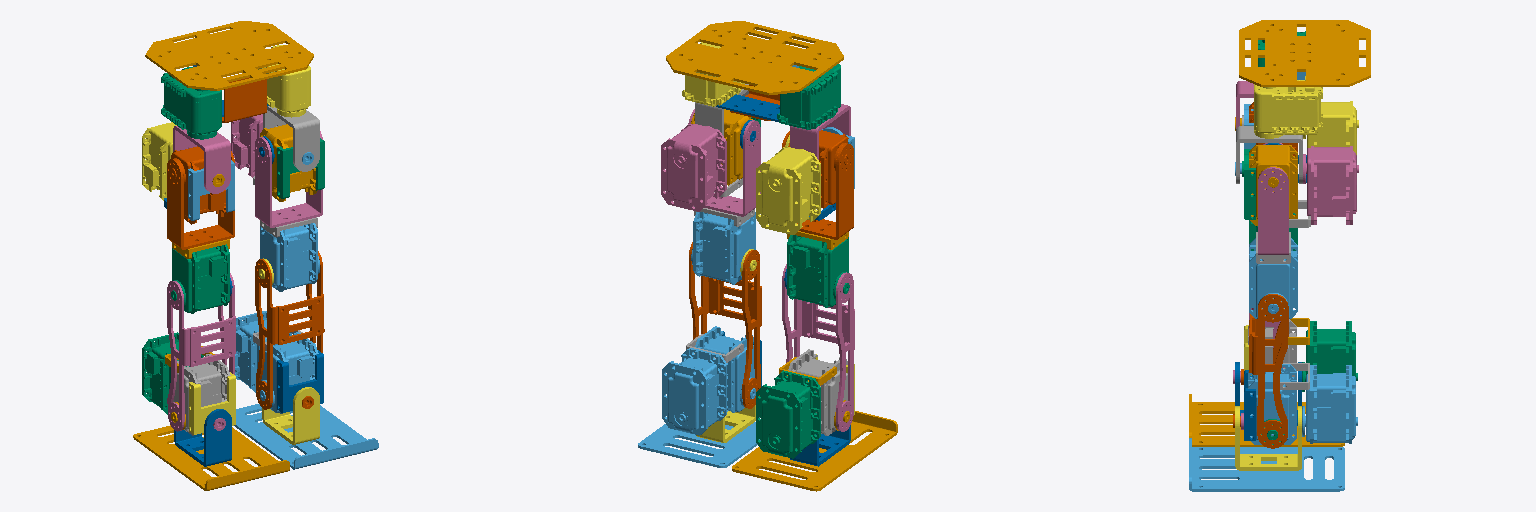
--- Facts derived from the render (not from the file) ---
3 views of the same robot in one strip: view 1: azimuth 30°, elevation 25°; view 2: azimuth 150°, elevation 25°; view 3: azimuth 270°, elevation 25° (orthographic).
Model Biped_upscaled with 50 links and 49 joints (12 continuous, 37 fixed), rooted at base_link, posed every joint at zero.
Visible links, largest first — view 1: base_link, Foot_L1, Knee_Foot_bracket_R1, Knee_Foot_Bracket_L1, Foot_R1, Knee_servo_Pitch_L1, Knee_servo_Pitch_R1, Hip_servo_Yaw_L1, Hip_Knee_bracket_L1, Hip_Knee_Backet_R1, foot_connect_L1, foot_connect_R1 (+16 smaller); view 2: base_link, Hip_servo_roll_R1, Hip_servo_roll_L1, foot_Servo_roll_R1, foot_servo_roll_L1, Foot_L1, Knee_Foot_Bracket_L1, Knee_Foot_bracket_R1, Knee_servo_Pitch_L1, Knee_servo_Pitch_R1, Foot_R1, Hip_servo_Yaw_L1 (+12 smaller); view 3: base_link, Foot_R1, Hip_servo_roll_R1, foot_Servo_roll_R1, Knee_Foot_bracket_R1, Hip_servo_Yaw__R_1, Hip_Knee_Backet_R1, Foot_L1, Knee_servo_Pitch_R1, foot_servo_roll_L1, Hip_servo_Pitch_R1, Hip_servo_roll_L1 (+6 smaller).
Link boxes in pixels (x1=…): base_link: x1=145, y1=21, x2=313, y2=90; Foot_L1: x1=133, y1=425, x2=289, y2=490; Knee_Foot_bracket_R1: x1=255, y1=251, x2=324, y2=409; Knee_Foot_Bracket_L1: x1=167, y1=273, x2=235, y2=431; Foot_R1: x1=234, y1=404, x2=378, y2=469; Knee_servo_Pitch_L1: x1=171, y1=244, x2=229, y2=313; Knee_servo_Pitch_R1: x1=260, y1=223, x2=319, y2=291; Hip_servo_Yaw_L1: x1=161, y1=67, x2=221, y2=139; Hip_Knee_bracket_L1: x1=167, y1=151, x2=234, y2=249; Hip_Knee_Backet_R1: x1=255, y1=131, x2=322, y2=227; foot_connect_L1: x1=174, y1=409, x2=231, y2=466; foot_connect_R1: x1=262, y1=387, x2=319, y2=444; base_link: x1=666, y1=21, x2=843, y2=95; Hip_servo_roll_R1: x1=661, y1=124, x2=726, y2=211; Hip_servo_roll_L1: x1=756, y1=147, x2=820, y2=234; foot_Servo_roll_R1: x1=662, y1=348, x2=726, y2=435; foot_servo_roll_L1: x1=756, y1=370, x2=820, y2=458; Foot_L1: x1=732, y1=411, x2=897, y2=491; Knee_Foot_Bracket_L1: x1=782, y1=264, x2=854, y2=431; Knee_Foot_bracket_R1: x1=689, y1=242, x2=761, y2=408; Knee_servo_Pitch_L1: x1=787, y1=235, x2=849, y2=307; Knee_servo_Pitch_R1: x1=691, y1=212, x2=755, y2=284; Foot_R1: x1=638, y1=410, x2=760, y2=467; Hip_servo_Yaw_L1: x1=777, y1=64, x2=840, y2=129; base_link: x1=1239, y1=20, x2=1370, y2=86; Foot_R1: x1=1189, y1=438, x2=1344, y2=491; Hip_servo_roll_R1: x1=1303, y1=146, x2=1358, y2=224; foot_Servo_roll_R1: x1=1302, y1=365, x2=1357, y2=443; Knee_Foot_bracket_R1: x1=1249, y1=294, x2=1288, y2=448; Hip_servo_Yaw__R_1: x1=1254, y1=76, x2=1322, y2=138; Hip_Knee_Backet_R1: x1=1258, y1=143, x2=1288, y2=254; Foot_L1: x1=1189, y1=394, x2=1344, y2=446; Knee_servo_Pitch_R1: x1=1249, y1=238, x2=1297, y2=318; foot_servo_roll_L1: x1=1302, y1=321, x2=1357, y2=391; Hip_servo_Pitch_R1: x1=1249, y1=145, x2=1297, y2=225; Hip_servo_roll_L1: x1=1303, y1=101, x2=1358, y2=154.
Bounding box of the posed robot: 1.48 × 1.31 × 3.11 m (x, y, z).
50 mesh visuals loaded from 50 distinct referenced files (50 binary STL).

robot.urdf — Biped_upscaled:
<?xml version="1.0" ?>
<robot name="Biped_upscaled">

<material name="silver">
  <color rgba="0.700 0.700 0.700 1.000"/>
</material>

<link name="base_link">
  <inertial>
    <origin xyz="0.06060872462491695 0.036723589973975845 0.30999861161402337" rpy="0 0 0"/>
    <mass value="0.02188916916153513"/>
    <inertia ixx="1.4745375687328505e-05" iyy="2.054443019497247e-05" izz="3.527521310286041e-05" ixy="-9.684751620381694e-09" iyz="-2.168404344971009e-19" ixz="1.0842021724855044e-19"/>
  </inertial>
  <visual>
    <origin xyz="0 0 0" rpy="0 0 0"/>
    <geometry>
      <mesh filename="meshes/base_link.stl" scale="0.01 0.01 0.01"/>
    </geometry>
    <material name="silver"/>
    <material/>
  </visual>
  <collision>
    <origin xyz="0 0 0" rpy="0 0 0"/>
    <geometry>
      <mesh filename="meshes/base_link.stl" scale="0.01 0.01 0.01"/>
    </geometry>
  </collision>
</link>

<link name="connect_link_v11">
  <inertial>
    <origin xyz="8.755939062687901e-08 -0.005999506282332957 -0.0032503883859776317" rpy="0 0 0"/>
    <mass value="0.00969209120805048"/>
    <inertia ixx="4.4427801889897027e-07" iyy="2.5957966162830142e-06" izz="2.9718261595912686e-06" ixy="5.759824041329242e-20" iyz="-2.710505431213761e-20" ixz="0.0"/>
  </inertial>
  <visual>
    <origin xyz="-0.060628 -0.038873 -0.308999" rpy="0 0 0"/>
    <geometry>
      <mesh filename="meshes/connect_link_v11.stl" scale="0.01 0.01 0.01"/>
    </geometry>
    <material name="silver"/>
    <material/>
  </visual>
  <collision>
    <origin xyz="-0.060628 -0.038873 -0.308999" rpy="0 0 0"/>
    <geometry>
      <mesh filename="meshes/connect_link_v11.stl" scale="0.01 0.01 0.01"/>
    </geometry>
  </collision>
</link>

<link name="Hip_servo_Yaw_L1">
  <inertial>
    <origin xyz="-0.013531113018413154 -0.00969047444291548 -0.01700249284622163" rpy="0 0 0"/>
    <mass value="0.056156082900612025"/>
    <inertia ixx="1.6178335463269515e-05" iyy="8.950870395210524e-06" izz="1.3635436612402693e-05" ixy="1.4223614970348356e-08" iyz="-1.1036335249283921e-07" ixz="-1.9200076826824883e-09"/>
  </inertial>
  <visual>
    <origin xyz="-0.035628 -0.032873 -0.302499" rpy="0 0 0"/>
    <geometry>
      <mesh filename="meshes/Hip_servo_Yaw_L1.stl" scale="0.01 0.01 0.01"/>
    </geometry>
    <material name="silver"/>
    <material/>
  </visual>
  <collision>
    <origin xyz="-0.035628 -0.032873 -0.302499" rpy="0 0 0"/>
    <geometry>
      <mesh filename="meshes/Hip_servo_Yaw_L1.stl" scale="0.01 0.01 0.01"/>
    </geometry>
  </collision>
</link>

<link name="Hip_servo_Yaw__R_1">
  <inertial>
    <origin xyz="0.013468886981585007 -0.00969047444291786 -0.016802492846221484" rpy="0 0 0"/>
    <mass value="0.056156082900612025"/>
    <inertia ixx="1.617833546327125e-05" iyy="8.950870395210524e-06" izz="1.3635436612402605e-05" ixy="1.4223614970267041e-08" iyz="-1.1036335249289342e-07" ixz="-1.920007683007749e-09"/>
  </inertial>
  <visual>
    <origin xyz="-0.085628 -0.032873 -0.302499" rpy="0 0 0"/>
    <geometry>
      <mesh filename="meshes/Hip_servo_Yaw__R_1.stl" scale="0.01 0.01 0.01"/>
    </geometry>
    <material name="silver"/>
    <material/>
  </visual>
  <collision>
    <origin xyz="-0.085628 -0.032873 -0.302499" rpy="0 0 0"/>
    <geometry>
      <mesh filename="meshes/Hip_servo_Yaw__R_1.stl" scale="0.01 0.01 0.01"/>
    </geometry>
  </collision>
</link>

<link name="connect_link_21">
  <inertial>
    <origin xyz="0.025000087559390392 4.93717667540694e-07 -0.0007503883859772409" rpy="0 0 0"/>
    <mass value="0.0022366364326270346"/>
    <inertia ixx="9.507024189355125e-08" iyy="5.915745335974634e-07" izz="6.858060368287546e-07" ixy="1.4399560103323106e-20" iyz="3.3881317890172014e-21" ixz="6.776263578034403e-21"/>
  </inertial>
  <visual>
    <origin xyz="-0.035628 -0.032873 -0.270499" rpy="0 0 0"/>
    <geometry>
      <mesh filename="meshes/connect_link_21.stl" scale="0.01 0.01 0.01"/>
    </geometry>
    <material name="silver"/>
    <material/>
  </visual>
  <collision>
    <origin xyz="-0.035628 -0.032873 -0.270499" rpy="0 0 0"/>
    <geometry>
      <mesh filename="meshes/connect_link_21.stl" scale="0.01 0.01 0.01"/>
    </geometry>
  </collision>
</link>

<link name="support_link1">
  <inertial>
    <origin xyz="8.755938650517603e-08 -0.01899092222380293 0.008312349694208576" rpy="0 0 0"/>
    <mass value="0.004271598629814522"/>
    <inertia ixx="9.380132827919367e-07" iyy="9.819874908971005e-07" izz="8.644459883259723e-07" ixy="-2.82061971435682e-19" iyz="2.809956492261554e-07" ixz="1.4907779871675686e-19"/>
  </inertial>
  <visual>
    <origin xyz="-0.060628 -0.038873 -0.268999" rpy="0 0 0"/>
    <geometry>
      <mesh filename="meshes/support_link1.stl" scale="0.01 0.01 0.01"/>
    </geometry>
    <material name="silver"/>
    <material/>
  </visual>
  <collision>
    <origin xyz="-0.060628 -0.038873 -0.268999" rpy="0 0 0"/>
    <geometry>
      <mesh filename="meshes/support_link1.stl" scale="0.01 0.01 0.01"/>
    </geometry>
  </collision>
</link>

<link name="Hip_bracket_yaw_L_v11">
  <inertial>
    <origin xyz="8.755937528151514e-08 -0.00019455926519733498 -0.012368152810058874" rpy="0 0 0"/>
    <mass value="0.008735700587823858"/>
    <inertia ixx="4.557715173367227e-06" iyy="1.596604357873184e-06" izz="3.6811077103368883e-06" ixy="-8.343274530454858e-20" iyz="-2.8340072973809954e-08" ixz="-3.503328269843786e-18"/>
  </inertial>
  <visual>
    <origin xyz="-0.022128 -0.010373 -0.265499" rpy="0 0 0"/>
    <geometry>
      <mesh filename="meshes/Hip_bracket_yaw_L_v11.stl" scale="0.01 0.01 0.01"/>
    </geometry>
    <material name="silver"/>
    <material/>
  </visual>
  <collision>
    <origin xyz="-0.022128 -0.010373 -0.265499" rpy="0 0 0"/>
    <geometry>
      <mesh filename="meshes/Hip_bracket_yaw_L_v11.stl" scale="0.01 0.01 0.01"/>
    </geometry>
  </collision>
</link>

<link name="Hip_Bracket_yaw_R1">
  <inertial>
    <origin xyz="8.755937279392167e-08 -0.0001945592651994444 -0.012368152810057986" rpy="0 0 0"/>
    <mass value="0.008735700587823858"/>
    <inertia ixx="4.557715173370263e-06" iyy="1.5966043578800144e-06" izz="3.681107710333268e-06" ixy="-7.115076756936123e-20" iyz="-2.8340072973769297e-08" ixz="-3.415236843329339e-18"/>
  </inertial>
  <visual>
    <origin xyz="-0.099128 -0.010373 -0.265699" rpy="0 0 0"/>
    <geometry>
      <mesh filename="meshes/Hip_Bracket_yaw_R1.stl" scale="0.01 0.01 0.01"/>
    </geometry>
    <material name="silver"/>
    <material/>
  </visual>
  <collision>
    <origin xyz="-0.099128 -0.010373 -0.265699" rpy="0 0 0"/>
    <geometry>
      <mesh filename="meshes/Hip_Bracket_yaw_R1.stl" scale="0.01 0.01 0.01"/>
    </geometry>
  </collision>
</link>

<link name="Bush_2_1">
  <inertial>
    <origin xyz="0.022128087559382902 0.21457600178506725 -0.04262638838534463" rpy="0 0 0"/>
    <mass value="0.00033912761870964644"/>
    <inertia ixx="3.5534106983028924e-09" iyy="4.084788845227892e-09" izz="3.553410474846204e-09" ixy="-2.6469779601696886e-23" iyz="-1.4336032632279033e-19" ixz="2.117582368135751e-22"/>
  </inertial>
  <visual>
    <origin xyz="0.0 0.226125 -0.279125" rpy="0 0 0"/>
    <geometry>
      <mesh filename="meshes/Bush_2_1.stl" scale="0.01 0.01 0.01"/>
    </geometry>
    <material name="silver"/>
    <material/>
  </visual>
  <collision>
    <origin xyz="0.0 0.226125 -0.279125" rpy="0 0 0"/>
    <geometry>
      <mesh filename="meshes/Bush_2_1.stl" scale="0.01 0.01 0.01"/>
    </geometry>
  </collision>
</link>

<link name="Bush_1_v11">
  <inertial>
    <origin xyz="-0.07712791244061934 -0.2586209982149346 -0.04262638838534433" rpy="0 0 0"/>
    <mass value="0.00033912761870964644"/>
    <inertia ixx="3.5534106983028924e-09" iyy="4.084788845234668e-09" izz="3.553410474846707e-09" ixy="5.293955920339377e-23" iyz="-1.4336032632279033e-19" ixz="0.0"/>
  </inertial>
  <visual>
    <origin xyz="-0.176256 -0.247072 -0.279325" rpy="0 0 0"/>
    <geometry>
      <mesh filename="meshes/Bush_1_v11.stl" scale="0.01 0.01 0.01"/>
    </geometry>
    <material name="silver"/>
    <material/>
  </visual>
  <collision>
    <origin xyz="-0.176256 -0.247072 -0.279325" rpy="0 0 0"/>
    <geometry>
      <mesh filename="meshes/Bush_1_v11.stl" scale="0.01 0.01 0.01"/>
    </geometry>
  </collision>
</link>

<link name="Washer_11">
  <inertial>
    <origin xyz="-0.09912791244096347 -0.008551506282331372 0.2366986116140234" rpy="0 0 0"/>
    <mass value="0.0001569470040624276"/>
    <inertia ixx="2.095397917133054e-09" iyy="4.096365919137407e-09" izz="2.095397782786852e-09" ixy="2.6469779601696886e-23" iyz="0.0" ixz="4.235164736271502e-22"/>
  </inertial>
  <visual>
    <origin xyz="-0.198256 -0.0 -0.0" rpy="0 0 0"/>
    <geometry>
      <mesh filename="meshes/Washer_11.stl" scale="0.01 0.01 0.01"/>
    </geometry>
    <material name="silver"/>
    <material/>
  </visual>
  <collision>
    <origin xyz="-0.198256 -0.0 -0.0" rpy="0 0 0"/>
    <geometry>
      <mesh filename="meshes/Washer_11.stl" scale="0.01 0.01 0.01"/>
    </geometry>
  </collision>
</link>

<link name="Hip_servo_roll_L1">
  <inertial>
    <origin xyz="0.02212792246244539 0.28094966903192353 -0.005937424755607296" rpy="0 0 0"/>
    <mass value="0.05848616148988177"/>
    <inertia ixx="1.6766044291456443e-05" iyy="1.3912202333722732e-05" izz="1.0380681129501561e-05" ixy="-2.87094284597781e-10" iyz="4.782213604587627e-07" ixz="4.278207660097372e-10"/>
  </inertial>
  <visual>
    <origin xyz="0.0 0.226125 -0.231125" rpy="0 0 0"/>
    <geometry>
      <mesh filename="meshes/Hip_servo_roll_L1.stl" scale="0.01 0.01 0.01"/>
    </geometry>
    <material name="silver"/>
    <material/>
  </visual>
  <collision>
    <origin xyz="0.0 0.226125 -0.231125" rpy="0 0 0"/>
    <geometry>
      <mesh filename="meshes/Hip_servo_roll_L1.stl" scale="0.01 0.01 0.01"/>
    </geometry>
  </collision>
</link>

<link name="Support_roll_servo_L1">
  <inertial>
    <origin xyz="-0.008342818068121632 -0.007693332734379908 -8.605220785384837e-07" rpy="0 0 0"/>
    <mass value="0.001003390579055556"/>
    <inertia ixx="5.969253484000835e-08" iyy="1.9068402818395841e-07" izz="2.44845355143008e-07" ixy="-1.0691242380712038e-09" iyz="-8.557850778121313e-13" ixz="1.6064752087411026e-10"/>
  </inertial>
  <visual>
    <origin xyz="-0.030628 -0.040148 -0.200699" rpy="0 0 0"/>
    <geometry>
      <mesh filename="meshes/Support_roll_servo_L1.stl" scale="0.01 0.01 0.01"/>
    </geometry>
    <material name="silver"/>
    <material/>
  </visual>
  <collision>
    <origin xyz="-0.030628 -0.040148 -0.200699" rpy="0 0 0"/>
    <geometry>
      <mesh filename="meshes/Support_roll_servo_L1.stl" scale="0.01 0.01 0.01"/>
    </geometry>
  </collision>
</link>

<link name="Hip_servo_Pitch_L1">
  <inertial>
    <origin xyz="0.014675874563868638 -0.00849934833873182 0.02448944364464442" rpy="0 0 0"/>
    <mass value="0.05848616148988177"/>
    <inertia ixx="1.3912202333719696e-05" iyy="1.6766044291457744e-05" izz="1.038068112949967e-05" ixy="2.8709428237516654e-10" iyz="-4.278207647357996e-10" ixz="4.782213604587085e-07"/>
  </inertial>
  <visual>
    <origin xyz="-0.007126 -0.021598 -0.200711" rpy="0 0 0"/>
    <geometry>
      <mesh filename="meshes/Hip_servo_Pitch_L1.stl" scale="0.01 0.01 0.01"/>
    </geometry>
    <material name="silver"/>
    <material/>
  </visual>
  <collision>
    <origin xyz="-0.007126 -0.021598 -0.200711" rpy="0 0 0"/>
    <geometry>
      <mesh filename="meshes/Hip_servo_Pitch_L1.stl" scale="0.01 0.01 0.01"/>
    </geometry>
  </collision>
</link>

<link name="Hip_servo_roll_R1">
  <inertial>
    <origin xyz="-7.753755698614029e-08 0.02042667618526226 -0.011311424755605842" rpy="0 0 0"/>
    <mass value="0.05848616148988177"/>
    <inertia ixx="1.6766044291457744e-05" iyy="1.3912202333722732e-05" izz="1.0380681129502347e-05" ixy="-2.870942846519911e-10" iyz="4.782213604588711e-07" ixz="4.278207660097372e-10"/>
  </inertial>
  <visual>
    <origin xyz="-0.099128 -0.034373 -0.236699" rpy="0 0 0"/>
    <geometry>
      <mesh filename="meshes/Hip_servo_roll_R1.stl" scale="0.01 0.01 0.01"/>
    </geometry>
    <material name="silver"/>
    <material/>
  </visual>
  <collision>
    <origin xyz="-0.099128 -0.034373 -0.236699" rpy="0 0 0"/>
    <geometry>
      <mesh filename="meshes/Hip_servo_roll_R1.stl" scale="0.01 0.01 0.01"/>
    </geometry>
  </collision>
</link>

<link name="Support_roll_Servo_R1">
  <inertial>
    <origin xyz="-0.008482904734634547 -0.007763870604140438 -7.445276328510442e-07" rpy="0 0 0"/>
    <mass value="0.000991152631600229"/>
    <inertia ixx="5.899142983411561e-08" iyy="1.8810254074607535e-07" izz="2.4162816800247254e-07" ixy="-6.052279683857172e-11" iyz="-1.6902670593133494e-12" ixz="1.5851502979013143e-10"/>
  </inertial>
  <visual>
    <origin xyz="-0.107628 -0.040123 -0.200899" rpy="0 0 0"/>
    <geometry>
      <mesh filename="meshes/Support_roll_Servo_R1.stl" scale="0.01 0.01 0.01"/>
    </geometry>
    <material name="silver"/>
    <material/>
  </visual>
  <collision>
    <origin xyz="-0.107628 -0.040123 -0.200899" rpy="0 0 0"/>
    <geometry>
      <mesh filename="meshes/Support_roll_Servo_R1.stl" scale="0.01 0.01 0.01"/>
    </geometry>
  </collision>
</link>

<link name="Hip_servo_Pitch_R1">
  <inertial>
    <origin xyz="-0.014676502879000491 -0.008499671379272359 0.024488710964318067" rpy="0 0 0"/>
    <mass value="0.05848616148988177"/>
    <inertia ixx="1.3912202333717094e-05" iyy="1.6766044291459913e-05" izz="1.0380681129500396e-05" ixy="2.8709428341871113e-10" iyz="4.2782076619947255e-10" ixz="-4.782213604574617e-07"/>
  </inertial>
  <visual>
    <origin xyz="-0.114126 -0.021593 -0.200886" rpy="0 0 0"/>
    <geometry>
      <mesh filename="meshes/Hip_servo_Pitch_R1.stl" scale="0.01 0.01 0.01"/>
    </geometry>
    <material name="silver"/>
    <material/>
  </visual>
  <collision>
    <origin xyz="-0.114126 -0.021593 -0.200886" rpy="0 0 0"/>
    <geometry>
      <mesh filename="meshes/Hip_servo_Pitch_R1.stl" scale="0.01 0.01 0.01"/>
    </geometry>
  </collision>
</link>

<link name="side_attach_L_hip1">
  <inertial>
    <origin xyz="0.014999692096273623 -0.0030449648531452583 -0.0129790855107213" rpy="0 0 0"/>
    <mass value="0.0051821405505521004"/>
    <inertia ixx="6.678809461064129e-07" iyy="1.5448767594578657e-06" izz="9.305088933269494e-07" ixy="1.376428539288238e-20" iyz="2.639983998775246e-08" ixz="-4.0657581468206416e-20"/>
  </inertial>
  <visual>
    <origin xyz="-0.007126 0.001902 -0.241011" rpy="0 0 0"/>
    <geometry>
      <mesh filename="meshes/side_attach_L_hip1.stl" scale="0.01 0.01 0.01"/>
    </geometry>
    <material name="silver"/>
    <material/>
  </visual>
  <collision>
    <origin xyz="-0.007126 0.001902 -0.241011" rpy="0 0 0"/>
    <geometry>
      <mesh filename="meshes/side_attach_L_hip1.stl" scale="0.01 0.01 0.01"/>
    </geometry>
  </collision>
</link>

<link name="side_attach_R_hip1">
  <inertial>
    <origin xyz="0.014999679588596604 -0.0030449576998069347 -0.012979818191048487" rpy="0 0 0"/>
    <mass value="0.0051821405505521004"/>
    <inertia ixx="6.678809461064129e-07" iyy="1.5448767594578115e-06" izz="9.305088933269325e-07" ixy="4.1081097941833566e-20" iyz="2.6399839987756695e-08" ixz="-5.421010862427522e-20"/>
  </inertial>
  <visual>
    <origin xyz="-0.084126 0.001907 -0.241186" rpy="0 0 0"/>
    <geometry>
      <mesh filename="meshes/side_attach_R_hip1.stl" scale="0.01 0.01 0.01"/>
    </geometry>
    <material name="silver"/>
    <material/>
  </visual>
  <collision>
    <origin xyz="-0.084126 0.001907 -0.241186" rpy="0 0 0"/>
    <geometry>
      <mesh filename="meshes/side_attach_R_hip1.stl" scale="0.01 0.01 0.01"/>
    </geometry>
  </collision>
</link>

<link name="Horn_L_pitch1">
  <inertial>
    <origin xyz="0.0012521355878538712 4.865593969827914e-07 4.813353695898304e-07" rpy="0 0 0"/>
    <mass value="0.0010452069679460242"/>
    <inertia ixx="5.912619983875389e-08" iyy="3.074557111910957e-08" izz="3.074619929578471e-08" ixy="-1.0727354639620493e-17" iyz="-9.826429221097138e-18" ixz="2.9483977007094004e-13"/>
  </inertial>
  <visual>
    <origin xyz="-0.041376 -0.013098 -0.236511" rpy="0 0 0"/>
    <geometry>
      <mesh filename="meshes/Horn_L_pitch1.stl" scale="0.01 0.01 0.01"/>
    </geometry>
    <material name="silver"/>
    <material/>
  </visual>
  <collision>
    <origin xyz="-0.041376 -0.013098 -0.236511" rpy="0 0 0"/>
    <geometry>
      <mesh filename="meshes/Horn_L_pitch1.stl" scale="0.01 0.01 0.01"/>
    </geometry>
  </collision>
</link>

<link name="Horn_R_pitch1">
  <inertial>
    <origin xyz="-0.0012527639029847326 4.937225982701299e-07 -2.5134495748591057e-07" rpy="0 0 0"/>
    <mass value="0.0010452069679460242"/>
    <inertia ixx="5.912619983876067e-08" iyy="3.074557111909602e-08" izz="3.0746199295786403e-08" ixy="-1.072682524402846e-17" iyz="9.827276254044393e-18" ixz="-2.9483976837687415e-13"/>
  </inertial>
  <visual>
    <origin xyz="-0.079876 -0.013093 -0.236686" rpy="0 0 0"/>
    <geometry>
      <mesh filename="meshes/Horn_R_pitch1.stl" scale="0.01 0.01 0.01"/>
    </geometry>
    <material name="silver"/>
    <material/>
  </visual>
  <collision>
    <origin xyz="-0.079876 -0.013093 -0.236686" rpy="0 0 0"/>
    <geometry>
      <mesh filename="meshes/Horn_R_pitch1.stl" scale="0.01 0.01 0.01"/>
    </geometry>
  </collision>
</link>

<link name="Hip_Knee_bracket_L1">
  <inertial>
    <origin xyz="0.021249692096275977 4.865643284390764e-07 -0.033829438471636136" rpy="0 0 0"/>
    <mass value="0.009175751935708147"/>
    <inertia ixx="4.594487188322037e-06" iyy="8.003394278945509e-06" izz="4.152987321468783e-06" ixy="4.1928130889087867e-20" iyz="5.421010862427522e-20" ixz="6.301925127571995e-19"/>
  </inertial>
  <visual>
    <origin xyz="-0.001376 -0.013098 -0.236511" rpy="0 0 0"/>
    <geometry>
      <mesh filename="meshes/Hip_Knee_bracket_L1.stl" scale="0.01 0.01 0.01"/>
    </geometry>
    <material name="silver"/>
    <material/>
  </visual>
  <collision>
    <origin xyz="-0.001376 -0.013098 -0.236511" rpy="0 0 0"/>
    <geometry>
      <mesh filename="meshes/Hip_Knee_bracket_L1.stl" scale="0.01 0.01 0.01"/>
    </geometry>
  </collision>
</link>

<link name="Hip_Knee_Backet_R1">
  <inertial>
    <origin xyz="-0.021250320411406745 4.937176672527299e-07 -0.03383017115196263" rpy="0 0 0"/>
    <mass value="0.009175751935708147"/>
    <inertia ixx="4.5944871883218746e-06" iyy="8.0033942789454e-06" izz="4.15298732146876e-06" ixy="6.098637220230962e-20" iyz="9.486769009248164e-20" ixz="-6.2341624917916505e-19"/>
  </inertial>
  <visual>
    <origin xyz="-0.119876 -0.013093 -0.236686" rpy="0 0 0"/>
    <geometry>
      <mesh filename="meshes/Hip_Knee_Backet_R1.stl" scale="0.01 0.01 0.01"/>
    </geometry>
    <material name="silver"/>
    <material/>
  </visual>
  <collision>
    <origin xyz="-0.119876 -0.013093 -0.236686" rpy="0 0 0"/>
    <geometry>
      <mesh filename="meshes/Hip_Knee_Backet_R1.stl" scale="0.01 0.01 0.01"/>
    </geometry>
  </collision>
</link>

<link name="Knee_attach_R1">
  <inertial>
    <origin xyz="-0.006000320411404053 0.005000493717670246 -0.002398275087053814" rpy="0 0 0"/>
    <mass value="0.004096604584621629"/>
    <inertia ixx="2.3788320348527283e-07" iyy="5.967941100390168e-07" izz="8.00202789891466e-07" ixy="5.082197683525802e-21" iyz="1.2027867851011065e-19" ixz="0.0"/>
  </inertial>
  <visual>
    <origin xyz="-0.104626 -0.008093 -0.177786" rpy="0 0 0"/>
    <geometry>
      <mesh filename="meshes/Knee_attach_R1.stl" scale="0.01 0.01 0.01"/>
    </geometry>
    <material name="silver"/>
    <material/>
  </visual>
  <collision>
    <origin xyz="-0.104626 -0.008093 -0.177786" rpy="0 0 0"/>
    <geometry>
      <mesh filename="meshes/Knee_attach_R1.stl" scale="0.01 0.01 0.01"/>
    </geometry>
  </collision>
</link>

<link name="Knee_attach_L1">
  <inertial>
    <origin xyz="0.005999692096272949 0.0050004865643309675 -0.002397542406727099" rpy="0 0 0"/>
    <mass value="0.004096604584621629"/>
    <inertia ixx="2.3788320348529994e-07" iyy="5.967941100390168e-07" izz="8.002027898914601e-07" ixy="4.446922973085077e-21" iyz="1.2366681029912785e-19" ixz="-3.3881317890172014e-21"/>
  </inertial>
  <visual>
    <origin xyz="-0.016626 -0.008098 -0.177611" rpy="0 0 0"/>
    <geometry>
      <mesh filename="meshes/Knee_attach_L1.stl" scale="0.01 0.01 0.01"/>
    </geometry>
    <material name="silver"/>
    <material/>
  </visual>
  <collision>
    <origin xyz="-0.016626 -0.008098 -0.177611" rpy="0 0 0"/>
    <geometry>
      <mesh filename="meshes/Knee_attach_L1.stl" scale="0.01 0.01 0.01"/>
    </geometry>
  </collision>
</link>

<link name="Knee_servo_Pitch_R1">
  <inertial>
    <origin xyz="-0.014676502879000353 0.008500658814608045 -0.024489216296418842" rpy="0 0 0"/>
    <mass value="0.05848616148988177"/>
    <inertia ixx="1.3912202333717745e-05" iyy="1.6766044291459262e-05" izz="1.0380681129502022e-05" ixy="-2.8709428542448515e-10" iyz="4.278207651694805e-10" ixz="4.782213604577869e-07"/>
  </inertial>
  <visual>
    <origin xyz="-0.113626 -0.004593 -0.171986" rpy="0 0 0"/>
    <geometry>
      <mesh filename="meshes/Knee_servo_Pitch_R1.stl" scale="0.01 0.01 0.01"/>
    </geometry>
    <material name="silver"/>
    <material/>
  </visual>
  <collision>
    <origin xyz="-0.113626 -0.004593 -0.171986" rpy="0 0 0"/>
    <geometry>
      <mesh filename="meshes/Knee_servo_Pitch_R1.stl" scale="0.01 0.01 0.01"/>
    </geometry>
  </collision>
</link>

<link name="Knee_servo_Pitch_L1">
  <inertial>
    <origin xyz="0.014675874563868638 0.008500321467389181 -0.024488483616092294" rpy="0 0 0"/>
    <mass value="0.05848616148988177"/>
    <inertia ixx="1.3912202333716877e-05" iyy="1.676604429146013e-05" izz="1.0380681129501331e-05" ixy="-2.870942852584667e-10" iyz="-4.2782076469514204e-10" ixz="-4.782213604581122e-07"/>
  </inertial>
  <visual>
    <origin xyz="-0.007626 -0.004598 -0.171811" rpy="0 0 0"/>
    <geometry>
      <mesh filename="meshes/Knee_servo_Pitch_L1.stl" scale="0.01 0.01 0.01"/>
    </geometry>
    <material name="silver"/>
    <material/>
  </visual>
  <collision>
    <origin xyz="-0.007626 -0.004598 -0.171811" rpy="0 0 0"/>
    <geometry>
      <mesh filename="meshes/Knee_servo_Pitch_L1.stl" scale="0.01 0.01 0.01"/>
    </geometry>
  </collision>
</link>

<link name="Horn_knee_R1">
  <inertial>
    <origin xyz="-0.001252763902984913 4.937226001661826e-07 -2.5134495568179815e-07" rpy="0 0 0"/>
    <mass value="0.0010452069679460242"/>
    <inertia ixx="5.9126199838750504e-08" iyy="3.074557111909602e-08" izz="3.0746199295785556e-08" ixy="-1.0727037002265273e-17" iyz="9.827276254044393e-18" ixz="-2.9483977007094004e-13"/>
  </inertial>
  <visual>
    <origin xyz="-0.079376 -0.013093 -0.136186" rpy="0 0 0"/>
    <geometry>
      <mesh filename="meshes/Horn_knee_R1.stl" scale="0.01 0.01 0.01"/>
    </geometry>
    <material name="silver"/>
    <material/>
  </visual>
  <collision>
    <origin xyz="-0.079376 -0.013093 -0.136186" rpy="0 0 0"/>
    <geometry>
      <mesh filename="meshes/Horn_knee_R1.stl" scale="0.01 0.01 0.01"/>
    </geometry>
  </collision>
</link>

<link name="horn_knee_L1">
  <inertial>
    <origin xyz="0.002252135587853879 4.865593970278942e-07 4.813353710608759e-07" rpy="0 0 0"/>
    <mass value="0.0010452069679460242"/>
    <inertia ixx="5.9126199838747116e-08" iyy="3.0745571119099405e-08" izz="3.074619929578513e-08" ixy="-1.0727037002265273e-17" iyz="-9.827276254044393e-18" ixz="2.94839770917973e-13"/>
  </inertial>
  <visual>
    <origin xyz="-0.040776 -0.013098 -0.136011" rpy="0 0 0"/>
    <geometry>
      <mesh filename="meshes/horn_knee_L1.stl" scale="0.01 0.01 0.01"/>
    </geometry>
    <material name="silver"/>
    <material/>
  </visual>
  <collision>
    <origin xyz="-0.040776 -0.013098 -0.136011" rpy="0 0 0"/>
    <geometry>
      <mesh filename="meshes/horn_knee_L1.stl" scale="0.01 0.01 0.01"/>
    </geometry>
  </collision>
</link>

<link name="Knee_Foot_bracket_R1">
  <inertial>
    <origin xyz="-0.020750320411406342 -0.005736828540610742 -0.045869017981759186" rpy="0 0 0"/>
    <mass value="0.01132882807356771"/>
    <inertia ixx="1.2028771165940581e-05" iyy="1.55864745617426e-05" izz="5.285440237642322e-06" ixy="-2.6359665318553827e-18" iyz="3.3191643722885005e-07" ixz="-4.824699667560495e-18"/>
  </inertial>
  <visual>
    <origin xyz="-0.119376 -0.013093 -0.136186" rpy="0 0 0"/>
    <geometry>
      <mesh filename="meshes/Knee_Foot_bracket_R1.stl" scale="0.01 0.01 0.01"/>
    </geometry>
    <material name="silver"/>
    <material/>
  </visual>
  <collision>
    <origin xyz="-0.119376 -0.013093 -0.136186" rpy="0 0 0"/>
    <geometry>
      <mesh filename="meshes/Knee_Foot_bracket_R1.stl" scale="0.01 0.01 0.01"/>
    </geometry>
  </collision>
</link>

<link name="Knee_Foot_Bracket_L1">
  <inertial>
    <origin xyz="0.02074969209627193 -0.005736835693952584 -0.04586828530143351" rpy="0 0 0"/>
    <mass value="0.01132882807356771"/>
    <inertia ixx="1.2028771165943156e-05" iyy="1.558647456173733e-05" izz="5.285440237642529e-06" ixy="-1.0532854699107225e-18" iyz="3.319164372288721e-07" ixz="-4.360525612465138e-18"/>
  </inertial>
  <visual>
    <origin xyz="-0.001876 -0.013098 -0.136011" rpy="0 0 0"/>
    <geometry>
      <mesh filename="meshes/Knee_Foot_Bracket_L1.stl" scale="0.01 0.01 0.01"/>
    </geometry>
    <material name="silver"/>
    <material/>
  </visual>
  <collision>
    <origin xyz="-0.001876 -0.013098 -0.136011" rpy="0 0 0"/>
    <geometry>
      <mesh filename="meshes/Knee_Foot_Bracket_L1.stl" scale="0.01 0.01 0.01"/>
    </geometry>
  </collision>
</link>

<link name="Foot_servo_pitch_L1">
  <inertial>
    <origin xyz="-0.02042649037132176 6.579111523682263e-07 0.011310766149735293" rpy="0 0 0"/>
    <mass value="0.05848616148988177"/>
    <inertia ixx="1.3912202333717365e-05" iyy="1.67660442914575e-05" izz="1.0380681129498919e-05" ixy="-2.8709428463505045e-10" iyz="4.2782076392942426e-10" ixz="4.782213604566349e-07"/>
  </inertial>
  <visual>
    <origin xyz="-0.043376 -0.012598 -0.036013" rpy="0 0 0"/>
    <geometry>
      <mesh filename="meshes/Foot_servo_pitch_L1.stl" scale="0.01 0.01 0.01"/>
    </geometry>
    <material name="silver"/>
    <material/>
  </visual>
  <collision>
    <origin xyz="-0.043376 -0.012598 -0.036013" rpy="0 0 0"/>
    <geometry>
      <mesh filename="meshes/Foot_servo_pitch_L1.stl" scale="0.01 0.01 0.01"/>
    </geometry>
  </collision>
</link>

<link name="Horn_foot_L1">
  <inertial>
    <origin xyz="-0.08656475139530725 -0.03292450718085519 0.04509873110119793" rpy="0 0 0"/>
    <mass value="0.0010452069679460242"/>
    <inertia ixx="5.912619983874902e-08" iyy="3.074557111909665e-08" izz="3.074619929578468e-08" ixy="-1.0726944358036667e-17" iyz="9.827223314485189e-18" ixz="-2.9483976968712824e-13"/>
  </inertial>
  <visual>
    <origin xyz="-0.088888 -0.045523 0.009086" rpy="0 0 0"/>
    <geometry>
      <mesh filename="meshes/Horn_foot_L1.stl" scale="0.01 0.01 0.01"/>
    </geometry>
    <material name="silver"/>
    <material/>
  </visual>
  <collision>
    <origin xyz="-0.088888 -0.045523 0.009086" rpy="0 0 0"/>
    <geometry>
      <mesh filename="meshes/Horn_foot_L1.stl" scale="0.01 0.01 0.01"/>
    </geometry>
  </collision>
</link>

<link name="Foot_servo_pitch_R1">
  <inertial>
    <origin xyz="0.02042586205619032 3.348706169078314e-07 0.01131103346940917" rpy="0 0 0"/>
    <mass value="0.05848616148988177"/>
    <inertia ixx="1.39122023337175e-05" iyy="1.676604429146089e-05" izz="1.0380681129499203e-05" ixy="-2.8709428458422847e-10" iyz="-4.278207643156713e-10" ixz="-4.782213604578411e-07"/>
  </inertial>
  <visual>
    <origin xyz="-0.077876 -0.012593 -0.036187" rpy="0 0 0"/>
    <geometry>
      <mesh filename="meshes/Foot_servo_pitch_R1.stl" scale="0.01 0.01 0.01"/>
    </geometry>
    <material name="silver"/>
    <material/>
  </visual>
  <collision>
    <origin xyz="-0.077876 -0.012593 -0.036187" rpy="0 0 0"/>
    <geometry>
      <mesh filename="meshes/Foot_servo_pitch_R1.stl" scale="0.01 0.01 0.01"/>
    </geometry>
  </collision>
</link>

<link name="horn_foot_R1">
  <inertial>
    <origin xyz="0.08673912308017687 -0.07717550003737624 0.045093998420873006" rpy="0 0 0"/>
    <mass value="0.0010452069679460242"/>
    <inertia ixx="5.9126199838749445e-08" iyy="3.0745571119099405e-08" izz="3.074619929578386e-08" ixy="-1.0728095793449341e-17" iyz="-9.827064495807579e-18" ixz="2.94839770917973e-13"/>
  </inertial>
  <visual>
    <origin xyz="-0.032189 -0.089769 0.008907" rpy="0 0 0"/>
    <geometry>
      <mesh filename="meshes/horn_foot_R1.stl" scale="0.01 0.01 0.01"/>
    </geometry>
    <material name="silver"/>
    <material/>
  </visual>
  <collision>
    <origin xyz="-0.032189 -0.089769 0.008907" rpy="0 0 0"/>
    <geometry>
      <mesh filename="meshes/horn_foot_R1.stl" scale="0.01 0.01 0.01"/>
    </geometry>
  </collision>
</link>

<link name="side_attach_foot_L1">
  <inertial>
    <origin xyz="0.01499969209627203 -0.003044958603260741 -0.02102070469489966" rpy="0 0 0"/>
    <mass value="0.0051821405505521004"/>
    <inertia ixx="6.678809461064637e-07" iyy="1.5448767594579199e-06" izz="9.305088933269494e-07" ixy="1.7470054537119944e-20" iyz="-2.6399839987736366e-08" ixz="-4.0657581468206416e-20"/>
  </inertial>
  <visual>
    <origin xyz="-0.007626 0.002402 -0.065513" rpy="0 0 0"/>
    <geometry>
      <mesh filename="meshes/side_attach_foot_L1.stl" scale="0.01 0.01 0.01"/>
    </geometry>
    <material name="silver"/>
    <material/>
  </visual>
  <collision>
    <origin xyz="-0.007626 0.002402 -0.065513" rpy="0 0 0"/>
    <geometry>
      <mesh filename="meshes/side_attach_foot_L1.stl" scale="0.01 0.01 0.01"/>
    </geometry>
  </collision>
</link>

<link name="side_attach_foot_R1">
  <inertial>
    <origin xyz="0.014999679588593176 -0.0030449514499178132 -0.021020437375226145" rpy="0 0 0"/>
    <mass value="0.0051821405505521004"/>
    <inertia ixx="6.67880946106462e-07" iyy="1.5448767594579334e-06" izz="9.305088933269528e-07" ixy="6.098637220230962e-20" iyz="-2.6399839987733613e-08" ixz="-4.743384504624082e-20"/>
  </inertial>
  <visual>
    <origin xyz="-0.083626 0.002407 -0.065687" rpy="0 0 0"/>
    <geometry>
      <mesh filename="meshes/side_attach_foot_R1.stl" scale="0.01 0.01 0.01"/>
    </geometry>
    <material name="silver"/>
    <material/>
  </visual>
  <collision>
    <origin xyz="-0.083626 0.002407 -0.065687" rpy="0 0 0"/>
    <geometry>
      <mesh filename="meshes/side_attach_foot_R1.stl" scale="0.01 0.01 0.01"/>
    </geometry>
  </collision>
</link>

<link name="Washer_31">
  <inertial>
    <origin xyz="-3.079033827589617e-07 -0.0009495071857869766 -2.702198959314561e-07" rpy="0 0 0"/>
    <mass value="0.0001569470040624276"/>
    <inertia ixx="2.0953979171312804e-09" iyy="4.096365919140425e-09" izz="2.0953977827867066e-09" ixy="3.970466940254533e-23" iyz="2.6469779601696886e-23" ixz="-2.6469779601696886e-23"/>
  </inertial>
  <visual>
    <origin xyz="-0.022626 0.008202 -0.036013" rpy="0 0 0"/>
    <geometry>
      <mesh filename="meshes/Washer_31.stl" scale="0.01 0.01 0.01"/>
    </geometry>
    <material name="silver"/>
    <material/>
  </visual>
  <collision>
    <origin xyz="-0.022626 0.008202 -0.036013" rpy="0 0 0"/>
    <geometry>
      <mesh filename="meshes/Washer_31.stl" scale="0.01 0.01 0.01"/>
    </geometry>
  </collision>
</link>

<link name="Washer_41">
  <inertial>
    <origin xyz="-3.2041106155789034e-07 -0.0009495000324434687 -2.900222124957441e-09" rpy="0 0 0"/>
    <mass value="0.0001569470040624276"/>
    <inertia ixx="2.0953979171312275e-09" iyy="4.0963659191399485e-09" izz="2.0953977827866404e-09" ixy="1.3234889800848443e-22" iyz="2.6469779601696886e-23" ixz="1.0587911840678754e-22"/>
  </inertial>
  <visual>
    <origin xyz="-0.098626 0.008207 -0.036187" rpy="0 0 0"/>
    <geometry>
      <mesh filename="meshes/Washer_41.stl" scale="0.01 0.01 0.01"/>
    </geometry>
    <material name="silver"/>
    <material/>
  </visual>
  <collision>
    <origin xyz="-0.098626 0.008207 -0.036187" rpy="0 0 0"/>
    <geometry>
      <mesh filename="meshes/Washer_41.stl" scale="0.01 0.01 0.01"/>
    </geometry>
  </collision>
</link>

<link name="support_attach_foot_R1">
  <inertial>
    <origin xyz="-0.014980904734635064 0.010766135645748173 1.250523819568139e-05" rpy="0 0 0"/>
    <mass value="0.000991152631600229"/>
    <inertia ixx="5.8991429834111377e-08" iyy="1.8810254074607874e-07" izz="2.4162816800247254e-07" ixy="-6.052279683264249e-11" iyz="-1.690267058889833e-12" ixz="1.585150297816611e-10"/>
  </inertial>
  <visual>
    <origin xyz="-0.113626 -0.021093 -0.071987" rpy="0 0 0"/>
    <geometry>
      <mesh filename="meshes/support_attach_foot_R1.stl" scale="0.01 0.01 0.01"/>
    </geometry>
    <material name="silver"/>
    <material/>
  </visual>
  <collision>
    <origin xyz="-0.113626 -0.021093 -0.071987" rpy="0 0 0"/>
    <geometry>
      <mesh filename="meshes/support_attach_foot_R1.stl" scale="0.01 0.01 0.01"/>
    </geometry>
  </collision>
</link>

<link name="support_attach_foot_L1">
  <inertial>
    <origin xyz="0.015019095265367776 0.010766128492404603 -1.3494761805218913e-05" rpy="0 0 0"/>
    <mass value="0.000991152631600229"/>
    <inertia ixx="5.899142983411053e-08" iyy="1.8810254074607705e-07" izz="2.416281680024772e-07" ixy="-6.052279683984227e-11" iyz="-1.6902670580428e-12" ixz="1.58515029785261e-10"/>
  </inertial>
  <visual>
    <origin xyz="-0.007626 -0.021098 -0.071813" rpy="0 0 0"/>
    <geometry>
      <mesh filename="meshes/support_attach_foot_L1.stl" scale="0.01 0.01 0.01"/>
    </geometry>
    <material name="silver"/>
    <material/>
  </visual>
  <collision>
    <origin xyz="-0.007626 -0.021098 -0.071813" rpy="0 0 0"/>
    <geometry>
      <mesh filename="meshes/support_attach_foot_L1.stl" scale="0.01 0.01 0.01"/>
    </geometry>
  </collision>
</link>

<link name="foot_Servo_roll_R1">
  <inertial>
    <origin xyz="0.008500252656323384 0.01467668243515189 -0.02448910225051438" rpy="0 0 0"/>
    <mass value="0.05848616148988177"/>
    <inertia ixx="1.6766044291457094e-05" iyy="1.3912202333717853e-05" izz="1.0380681129500287e-05" ixy="2.870942834051586e-10" iyz="-4.782213604569195e-07" ixz="4.2782076514237544e-10"/>
  </inertial>
  <visual>
    <origin xyz="-0.090128 -0.039623 -0.072" rpy="0 0 0"/>
    <geometry>
      <mesh filename="meshes/foot_Servo_roll_R1.stl" scale="0.01 0.01 0.01"/>
    </geometry>
    <material name="silver"/>
    <material/>
  </visual>
  <collision>
    <origin xyz="-0.090128 -0.039623 -0.072" rpy="0 0 0"/>
    <geometry>
      <mesh filename="meshes/foot_Servo_roll_R1.stl" scale="0.01 0.01 0.01"/>
    </geometry>
  </collision>
</link>

<link name="foot_servo_roll_L1">
  <inertial>
    <origin xyz="0.008500252656324985 0.014676675281807584 -0.024489102250515565" rpy="0 0 0"/>
    <mass value="0.05848616148988177"/>
    <inertia ixx="1.6766044291456064e-05" iyy="1.3912202333717257e-05" izz="1.0380681129500233e-05" ixy="2.8709428202280084e-10" iyz="-4.78221360458058e-07" ixz="4.2782076464093193e-10"/>
  </inertial>
  <visual>
    <origin xyz="-0.014128 -0.039628 -0.0718" rpy="0 0 0"/>
    <geometry>
      <mesh filename="meshes/foot_servo_roll_L1.stl" scale="0.01 0.01 0.01"/>
    </geometry>
    <material name="silver"/>
    <material/>
  </visual>
  <collision>
    <origin xyz="-0.014128 -0.039628 -0.0718" rpy="0 0 0"/>
    <geometry>
      <mesh filename="meshes/foot_servo_roll_L1.stl" scale="0.01 0.01 0.01"/>
    </geometry>
  </collision>
</link>

<link name="foot_connect_R1">
  <inertial>
    <origin xyz="8.755939616411634e-08 -0.02418545026519283 -0.018933957152685102" rpy="0 0 0"/>
    <mass value="0.009163335973748653"/>
    <inertia ixx="5.388156082317761e-06" iyy="2.0604137855260025e-06" izz="4.098092484132955e-06" ixy="-3.4389537658524594e-19" iyz="3.226179646354344e-08" ixz="-3.2221133313553585e-18"/>
  </inertial>
  <visual>
    <origin xyz="-0.098628 -0.033873 -0.0362" rpy="0 0 0"/>
    <geometry>
      <mesh filename="meshes/foot_connect_R1.stl" scale="0.01 0.01 0.01"/>
    </geometry>
    <material name="silver"/>
    <material/>
  </visual>
  <collision>
    <origin xyz="-0.098628 -0.033873 -0.0362" rpy="0 0 0"/>
    <geometry>
      <mesh filename="meshes/foot_connect_R1.stl" scale="0.01 0.01 0.01"/>
    </geometry>
  </collision>
</link>

<link name="foot_connect_L1">
  <inertial>
    <origin xyz="8.755939907845178e-08 -0.02418545741853705 -0.018933957152686056" rpy="0 0 0"/>
    <mass value="0.009163335973748653"/>
    <inertia ixx="5.388156082317786e-06" iyy="2.060413785525978e-06" izz="4.09809248413296e-06" ixy="-1.6855955650360577e-19" iyz="3.226179646356017e-08" ixz="-3.2534535504037676e-18"/>
  </inertial>
  <visual>
    <origin xyz="-0.022628 -0.033878 -0.036" rpy="0 0 0"/>
    <geometry>
      <mesh filename="meshes/foot_connect_L1.stl" scale="0.01 0.01 0.01"/>
    </geometry>
    <material name="silver"/>
    <material/>
  </visual>
  <collision>
    <origin xyz="-0.022628 -0.033878 -0.036" rpy="0 0 0"/>
    <geometry>
      <mesh filename="meshes/foot_connect_L1.stl" scale="0.01 0.01 0.01"/>
    </geometry>
  </collision>
</link>

<link name="Bush_31">
  <inertial>
    <origin xyz="0.0986256795885939 -0.01442899196504672 -0.036187002900855" rpy="0 0 0"/>
    <mass value="0.00033912761870964644"/>
    <inertia ixx="3.55341069830501e-09" iyy="4.084788845233821e-09" izz="3.5534104748454365e-09" ixy="0.0" iyz="1.4328091698398524e-19" ixz="2.117582368135751e-22"/>
  </inertial>
  <visual>
    <origin xyz="-0.0 -0.0019 -0.072374" rpy="0 0 0"/>
    <geometry>
      <mesh filename="meshes/Bush_31.stl" scale="0.01 0.01 0.01"/>
    </geometry>
    <material name="silver"/>
    <material/>
  </visual>
  <collision>
    <origin xyz="-0.0 -0.0019 -0.072374" rpy="0 0 0"/>
    <geometry>
      <mesh filename="meshes/Bush_31.stl" scale="0.01 0.01 0.01"/>
    </geometry>
  </collision>
</link>

<link name="Bush_41">
  <inertial>
    <origin xyz="0.022625692096272715 -0.014423999118389902 -0.036012270220528525" rpy="0 0 0"/>
    <mass value="0.00033912761870964644"/>
    <inertia ixx="3.553410698305116e-09" iyy="4.084788845233398e-09" izz="3.5534104748462836e-09" ixy="-2.6469779601696886e-23" iyz="1.4328091698398524e-19" ixz="5.293955920339377e-23"/>
  </inertial>
  <visual>
    <origin xyz="-0.0 -0.0019 -0.072025" rpy="0 0 0"/>
    <geometry>
      <mesh filename="meshes/Bush_41.stl" scale="0.01 0.01 0.01"/>
    </geometry>
    <material name="silver"/>
    <material/>
  </visual>
  <collision>
    <origin xyz="-0.0 -0.0019 -0.072025" rpy="0 0 0"/>
    <geometry>
      <mesh filename="meshes/Bush_41.stl" scale="0.01 0.01 0.01"/>
    </geometry>
  </collision>
</link>

<link name="Washer_21">
  <inertial>
    <origin xyz="8.755903861679126e-08 -0.000949506282329789 -3.883859768794018e-07" rpy="0 0 0"/>
    <mass value="0.0001569470040624276"/>
    <inertia ixx="2.0953979171296658e-09" iyy="4.0963659191391015e-09" izz="2.0953977827866404e-09" ixy="5.624828165360588e-23" iyz="0.0" ixz="0.0"/>
  </inertial>
  <visual>
    <origin xyz="-0.022128 0.007627 -0.236499" rpy="0 0 0"/>
    <geometry>
      <mesh filename="meshes/Washer_21.stl" scale="0.01 0.01 0.01"/>
    </geometry>
    <material name="silver"/>
    <material/>
  </visual>
  <collision>
    <origin xyz="-0.022128 0.007627 -0.236499" rpy="0 0 0"/>
    <geometry>
      <mesh filename="meshes/Washer_21.stl" scale="0.01 0.01 0.01"/>
    </geometry>
  </collision>
</link>

<link name="Foot_L1">
  <inertial>
    <origin xyz="-2.7052128486727833e-05 0.007324772290066046 -0.0006236210593121259" rpy="0 0 0"/>
    <mass value="0.11874731720777594"/>
    <inertia ixx="0.00013504403572545478" iyy="5.5253122397327985e-05" izz="0.00018972335778322334" ixy="1.6680131596703596e-08" iyz="2.294744148063528e-06" ixz="-1.2134276637682498e-09"/>
  </inertial>
  <visual>
    <origin xyz="-0.016628 0.002622 -0.002" rpy="0 0 0"/>
    <geometry>
      <mesh filename="meshes/Foot_L1.stl" scale="0.01 0.01 0.01"/>
    </geometry>
    <material name="silver"/>
    <material/>
  </visual>
  <collision>
    <origin xyz="-0.016628 0.002622 -0.002" rpy="0 0 0"/>
    <geometry>
      <mesh filename="meshes/Foot_L1.stl" scale="0.01 0.01 0.01"/>
    </geometry>
  </collision>
</link>

<link name="Foot_R1">
  <inertial>
    <origin xyz="0.012027451028017819 -0.01725251116732917 -0.0007467666233469173" rpy="0 0 0"/>
    <mass value="0.12955381074460537"/>
    <inertia ixx="0.00014571037521278116" iyy="6.0318526185315115e-05" izz="0.00020541185133327164" ixy="-1.6849622382276346e-08" iyz="2.3689601189101116e-06" ixz="1.2527184422173737e-09"/>
  </inertial>
  <visual>
    <origin xyz="-0.092628 -0.022373 -0.0022" rpy="0 0 0"/>
    <geometry>
      <mesh filename="meshes/Foot_R1.stl" scale="0.01 0.01 0.01"/>
    </geometry>
    <material name="silver"/>
    <material/>
  </visual>
  <collision>
    <origin xyz="-0.092628 -0.022373 -0.0022" rpy="0 0 0"/>
    <geometry>
      <mesh filename="meshes/Foot_R1.stl" scale="0.01 0.01 0.01"/>
    </geometry>
  </collision>
</link>

<joint name="Rigid_1" type="fixed">
  <origin xyz="0.060628 0.038873 0.308999" rpy="0 0 0"/>
  <parent link="base_link"/>
  <child link="connect_link_v11"/>
</joint>

<joint name="Rigid_2" type="fixed">
  <origin xyz="-0.025 -0.006 -0.0065" rpy="0 0 0"/>
  <parent link="connect_link_v11"/>
  <child link="Hip_servo_Yaw_L1"/>
</joint>

<joint name="Rigid_3" type="fixed">
  <origin xyz="0.025 -0.006 -0.0065" rpy="0 0 0"/>
  <parent link="connect_link_v11"/>
  <child link="Hip_servo_Yaw__R_1"/>
</joint>

<joint name="Rigid_4" type="fixed">
  <origin xyz="0.0 0.0 -0.032" rpy="0 0 0"/>
  <parent link="Hip_servo_Yaw_L1"/>
  <child link="connect_link_21"/>
</joint>

<joint name="Rigid_5" type="fixed">
  <origin xyz="0.025 0.006 -0.0015" rpy="0 0 0"/>
  <parent link="connect_link_21"/>
  <child link="support_link1"/>
</joint>

<joint name="Revolute_12" type="continuous">
  <origin xyz="-0.0135 -0.0225 -0.037" rpy="0 0 0"/>
  <parent link="Hip_servo_Yaw_L1"/>
  <child link="Hip_bracket_yaw_L_v11"/>
  <axis xyz="-0.0 0.0 -1.0"/>
</joint>
<transmission name="Revolute_12_tran">
  <type>transmission_interface/SimpleTransmission</type>
  <joint name="Revolute_12">
    <hardwareInterface>PositionJointInterface</hardwareInterface>
  </joint>
  <actuator name="Revolute_12_actr">
    <hardwareInterface>PositionJointInterface</hardwareInterface>
    <mechanicalReduction>1</mechanicalReduction>
  </actuator>
</transmission>

<joint name="Revolute_14" type="continuous">
  <origin xyz="0.0135 -0.0225 -0.0368" rpy="0 0 0"/>
  <parent link="Hip_servo_Yaw__R_1"/>
  <child link="Hip_Bracket_yaw_R1"/>
  <axis xyz="-0.0 0.0 -1.0"/>
</joint>
<transmission name="Revolute_14_tran">
  <type>transmission_interface/SimpleTransmission</type>
  <joint name="Revolute_14">
    <hardwareInterface>PositionJointInterface</hardwareInterface>
  </joint>
  <actuator name="Revolute_14_actr">
    <hardwareInterface>PositionJointInterface</hardwareInterface>
    <mechanicalReduction>1</mechanicalReduction>
  </actuator>
</transmission>

<joint name="Rigid_15" type="fixed">
  <origin xyz="-0.022128 -0.236498 0.013626" rpy="0 0 0"/>
  <parent link="Hip_bracket_yaw_L_v11"/>
  <child link="Bush_2_1"/>
</joint>

<joint name="Rigid_16" type="fixed">
  <origin xyz="0.077128 0.236699 0.013626" rpy="0 0 0"/>
  <parent link="Hip_Bracket_yaw_R1"/>
  <child link="Bush_1_v11"/>
</joint>

<joint name="Rigid_17" type="fixed">
  <origin xyz="0.022 -0.247072 -0.279325" rpy="0 0 0"/>
  <parent link="Bush_1_v11"/>
  <child link="Washer_11"/>
</joint>

<joint name="Revolute_42" type="continuous">
  <origin xyz="-0.022128 -0.236498 -0.034374" rpy="0 0 0"/>
  <parent link="Hip_bracket_yaw_L_v11"/>
  <child link="Hip_servo_roll_L1"/>
  <axis xyz="-0.0 -1.0 -0.0"/>
</joint>
<transmission name="Revolute_42_tran">
  <type>transmission_interface/SimpleTransmission</type>
  <joint name="Revolute_42">
    <hardwareInterface>PositionJointInterface</hardwareInterface>
  </joint>
  <actuator name="Revolute_42_actr">
    <hardwareInterface>PositionJointInterface</hardwareInterface>
    <mechanicalReduction>1</mechanicalReduction>
  </actuator>
</transmission>

<joint name="Rigid_43" type="fixed">
  <origin xyz="0.030628 0.266273 -0.030426" rpy="0 0 0"/>
  <parent link="Hip_servo_roll_L1"/>
  <child link="Support_roll_servo_L1"/>
</joint>

<joint name="Rigid_44" type="fixed">
  <origin xyz="-0.023502 -0.01855 1.2e-05" rpy="0 0 0"/>
  <parent link="Support_roll_servo_L1"/>
  <child link="Hip_servo_Pitch_L1"/>
</joint>

<joint name="Revolute_45" type="continuous">
  <origin xyz="0.0 0.024 -0.029" rpy="0 0 0"/>
  <parent link="Hip_Bracket_yaw_R1"/>
  <child link="Hip_servo_roll_R1"/>
  <axis xyz="-0.0 -1.0 -0.0"/>
</joint>
<transmission name="Revolute_45_tran">
  <type>transmission_interface/SimpleTransmission</type>
  <joint name="Revolute_45">
    <hardwareInterface>PositionJointInterface</hardwareInterface>
  </joint>
  <actuator name="Revolute_45_actr">
    <hardwareInterface>PositionJointInterface</hardwareInterface>
    <mechanicalReduction>1</mechanicalReduction>
  </actuator>
</transmission>

<joint name="Rigid_46" type="fixed">
  <origin xyz="0.0085 0.00575 -0.0358" rpy="0 0 0"/>
  <parent link="Hip_servo_roll_R1"/>
  <child link="Support_roll_Servo_R1"/>
</joint>

<joint name="Rigid_47" type="fixed">
  <origin xyz="0.006498 -0.01853 -1.3e-05" rpy="0 0 0"/>
  <parent link="Support_roll_Servo_R1"/>
  <child link="Hip_servo_Pitch_R1"/>
</joint>

<joint name="Rigid_48" type="fixed">
  <origin xyz="0.0 -0.0235 0.0403" rpy="0 0 0"/>
  <parent link="Hip_servo_Pitch_L1"/>
  <child link="side_attach_L_hip1"/>
</joint>

<joint name="Rigid_49" type="fixed">
  <origin xyz="-0.03 -0.0235 0.0403" rpy="0 0 0"/>
  <parent link="Hip_servo_Pitch_R1"/>
  <child link="side_attach_R_hip1"/>
</joint>

<joint name="Rigid_50" type="fixed">
  <origin xyz="0.03425 -0.0085 0.0358" rpy="0 0 0"/>
  <parent link="Hip_servo_Pitch_L1"/>
  <child link="Horn_L_pitch1"/>
</joint>

<joint name="Rigid_51" type="fixed">
  <origin xyz="-0.03425 -0.0085 0.0358" rpy="0 0 0"/>
  <parent link="Hip_servo_Pitch_R1"/>
  <child link="Horn_R_pitch1"/>
</joint>

<joint name="Revolute_52" type="continuous">
  <origin xyz="-0.00575 -0.0085 0.0358" rpy="0 0 0"/>
  <parent link="Hip_servo_Pitch_L1"/>
  <child link="Hip_Knee_bracket_L1"/>
  <axis xyz="-1.0 0.0 0.0"/>
</joint>
<transmission name="Revolute_52_tran">
  <type>transmission_interface/SimpleTransmission</type>
  <joint name="Revolute_52">
    <hardwareInterface>PositionJointInterface</hardwareInterface>
  </joint>
  <actuator name="Revolute_52_actr">
    <hardwareInterface>PositionJointInterface</hardwareInterface>
    <mechanicalReduction>1</mechanicalReduction>
  </actuator>
</transmission>

<joint name="Revolute_53" type="continuous">
  <origin xyz="0.00575 -0.0085 0.0358" rpy="0 0 0"/>
  <parent link="Hip_servo_Pitch_R1"/>
  <child link="Hip_Knee_Backet_R1"/>
  <axis xyz="1.0 -0.0 0.0"/>
</joint>
<transmission name="Revolute_53_tran">
  <type>transmission_interface/SimpleTransmission</type>
  <joint name="Revolute_53">
    <hardwareInterface>PositionJointInterface</hardwareInterface>
  </joint>
  <actuator name="Revolute_53_actr">
    <hardwareInterface>PositionJointInterface</hardwareInterface>
    <mechanicalReduction>1</mechanicalReduction>
  </actuator>
</transmission>

<joint name="Rigid_54" type="fixed">
  <origin xyz="-0.01525 -0.005 -0.0589" rpy="0 0 0"/>
  <parent link="Hip_Knee_Backet_R1"/>
  <child link="Knee_attach_R1"/>
</joint>

<joint name="Rigid_55" type="fixed">
  <origin xyz="0.01525 -0.005 -0.0589" rpy="0 0 0"/>
  <parent link="Hip_Knee_bracket_L1"/>
  <child link="Knee_attach_L1"/>
</joint>

<joint name="Rigid_56" type="fixed">
  <origin xyz="0.009 -0.0035 -0.0058" rpy="0 0 0"/>
  <parent link="Knee_attach_R1"/>
  <child link="Knee_servo_Pitch_R1"/>
</joint>

<joint name="Rigid_57" type="fixed">
  <origin xyz="-0.009 -0.0035 -0.0058" rpy="0 0 0"/>
  <parent link="Knee_attach_L1"/>
  <child link="Knee_servo_Pitch_L1"/>
</joint>

<joint name="Rigid_58" type="fixed">
  <origin xyz="-0.03425 0.0085 -0.0358" rpy="0 0 0"/>
  <parent link="Knee_servo_Pitch_R1"/>
  <child link="Horn_knee_R1"/>
</joint>

<joint name="Rigid_59" type="fixed">
  <origin xyz="0.03315 0.0085 -0.0358" rpy="0 0 0"/>
  <parent link="Knee_servo_Pitch_L1"/>
  <child link="horn_knee_L1"/>
</joint>

<joint name="Revolute_60" type="continuous">
  <origin xyz="0.00575 0.0085 -0.0358" rpy="0 0 0"/>
  <parent link="Knee_servo_Pitch_R1"/>
  <child link="Knee_Foot_bracket_R1"/>
  <axis xyz="1.0 -0.0 0.0"/>
</joint>
<transmission name="Revolute_60_tran">
  <type>transmission_interface/SimpleTransmission</type>
  <joint name="Revolute_60">
    <hardwareInterface>PositionJointInterface</hardwareInterface>
  </joint>
  <actuator name="Revolute_60_actr">
    <hardwareInterface>PositionJointInterface</hardwareInterface>
    <mechanicalReduction>1</mechanicalReduction>
  </actuator>
</transmission>

<joint name="Revolute_61" type="continuous">
  <origin xyz="-0.00575 0.0085 -0.0358" rpy="0 0 0"/>
  <parent link="Knee_servo_Pitch_L1"/>
  <child link="Knee_Foot_Bracket_L1"/>
  <axis xyz="-1.0 0.0 -0.0"/>
</joint>
<transmission name="Revolute_61_tran">
  <type>transmission_interface/SimpleTransmission</type>
  <joint name="Revolute_61">
    <hardwareInterface>PositionJointInterface</hardwareInterface>
  </joint>
  <actuator name="Revolute_61_actr">
    <hardwareInterface>PositionJointInterface</hardwareInterface>
    <mechanicalReduction>1</mechanicalReduction>
  </actuator>
</transmission>

<joint name="Revolute_64" type="continuous">
  <origin xyz="0.0415 -0.0005 -0.099998" rpy="0 0 0"/>
  <parent link="Knee_Foot_Bracket_L1"/>
  <child link="Foot_servo_pitch_L1"/>
  <axis xyz="1.0 -0.0 0.0"/>
</joint>
<transmission name="Revolute_64_tran">
  <type>transmission_interface/SimpleTransmission</type>
  <joint name="Revolute_64">
    <hardwareInterface>PositionJointInterface</hardwareInterface>
  </joint>
  <actuator name="Revolute_64_actr">
    <hardwareInterface>PositionJointInterface</hardwareInterface>
    <mechanicalReduction>1</mechanicalReduction>
  </actuator>
</transmission>

<joint name="Rigid_65" type="fixed">
  <origin xyz="0.045512 0.032925 -0.045099" rpy="0 0 0"/>
  <parent link="Foot_servo_pitch_L1"/>
  <child link="Horn_foot_L1"/>
</joint>

<joint name="Revolute_66" type="continuous">
  <origin xyz="-0.0415 -0.0005 -0.099999" rpy="0 0 0"/>
  <parent link="Knee_Foot_bracket_R1"/>
  <child link="Foot_servo_pitch_R1"/>
  <axis xyz="1.0 -0.0 -0.0"/>
</joint>
<transmission name="Revolute_66_tran">
  <type>transmission_interface/SimpleTransmission</type>
  <joint name="Revolute_66">
    <hardwareInterface>PositionJointInterface</hardwareInterface>
  </joint>
  <actuator name="Revolute_66_actr">
    <hardwareInterface>PositionJointInterface</hardwareInterface>
    <mechanicalReduction>1</mechanicalReduction>
  </actuator>
</transmission>

<joint name="Rigid_67" type="fixed">
  <origin xyz="-0.045687 0.077176 -0.045094" rpy="0 0 0"/>
  <parent link="Foot_servo_pitch_R1"/>
  <child link="horn_foot_R1"/>
</joint>

<joint name="Rigid_68" type="fixed">
  <origin xyz="-0.03575 -0.015 0.0295" rpy="0 0 0"/>
  <parent link="Foot_servo_pitch_L1"/>
  <child link="side_attach_foot_L1"/>
</joint>

<joint name="Rigid_69" type="fixed">
  <origin xyz="0.00575 -0.015 0.0295" rpy="0 0 0"/>
  <parent link="Foot_servo_pitch_R1"/>
  <child link="side_attach_foot_R1"/>
</joint>

<joint name="Rigid_70" type="fixed">
  <origin xyz="0.015 -0.0058 -0.0295" rpy="0 0 0"/>
  <parent link="side_attach_foot_L1"/>
  <child link="Washer_31"/>
</joint>

<joint name="Rigid_71" type="fixed">
  <origin xyz="0.015 -0.0058 -0.0295" rpy="0 0 0"/>
  <parent link="side_attach_foot_R1"/>
  <child link="Washer_41"/>
</joint>

<joint name="Rigid_72" type="fixed">
  <origin xyz="0.03575 0.0085 0.0358" rpy="0 0 0"/>
  <parent link="Foot_servo_pitch_R1"/>
  <child link="support_attach_foot_R1"/>
</joint>

<joint name="Rigid_73" type="fixed">
  <origin xyz="-0.03575 0.0085 0.0358" rpy="0 0 0"/>
  <parent link="Foot_servo_pitch_L1"/>
  <child link="support_attach_foot_L1"/>
</joint>

<joint name="Rigid_74" type="fixed">
  <origin xyz="-0.023498 0.01853 1.3e-05" rpy="0 0 0"/>
  <parent link="support_attach_foot_R1"/>
  <child link="foot_Servo_roll_R1"/>
</joint>

<joint name="Rigid_75" type="fixed">
  <origin xyz="0.006502 0.01853 -1.3e-05" rpy="0 0 0"/>
  <parent link="support_attach_foot_L1"/>
  <child link="foot_servo_roll_L1"/>
</joint>

<joint name="Revolute_76" type="continuous">
  <origin xyz="0.0085 -0.00575 -0.0358" rpy="0 0 0"/>
  <parent link="foot_Servo_roll_R1"/>
  <child link="foot_connect_R1"/>
  <axis xyz="-0.0 -1.0 -0.0"/>
</joint>
<transmission name="Revolute_76_tran">
  <type>transmission_interface/SimpleTransmission</type>
  <joint name="Revolute_76">
    <hardwareInterface>PositionJointInterface</hardwareInterface>
  </joint>
  <actuator name="Revolute_76_actr">
    <hardwareInterface>PositionJointInterface</hardwareInterface>
    <mechanicalReduction>1</mechanicalReduction>
  </actuator>
</transmission>

<joint name="Revolute_77" type="continuous">
  <origin xyz="0.0085 -0.00575 -0.0358" rpy="0 0 0"/>
  <parent link="foot_servo_roll_L1"/>
  <child link="foot_connect_L1"/>
  <axis xyz="-0.0 -1.0 -0.0"/>
</joint>
<transmission name="Revolute_77_tran">
  <type>transmission_interface/SimpleTransmission</type>
  <joint name="Revolute_77">
    <hardwareInterface>PositionJointInterface</hardwareInterface>
  </joint>
  <actuator name="Revolute_77_actr">
    <hardwareInterface>PositionJointInterface</hardwareInterface>
    <mechanicalReduction>1</mechanicalReduction>
  </actuator>
</transmission>

<joint name="Rigid_78" type="fixed">
  <origin xyz="-0.098626 0.010107 0.036187" rpy="0 0 0"/>
  <parent link="Washer_41"/>
  <child link="Bush_31"/>
</joint>

<joint name="Rigid_79" type="fixed">
  <origin xyz="-0.022626 0.010102 0.036012" rpy="0 0 0"/>
  <parent link="Washer_31"/>
  <child link="Bush_41"/>
</joint>

<joint name="Rigid_82" type="fixed">
  <origin xyz="0.022128 0.218498 -0.042626" rpy="0 0 0"/>
  <parent link="Bush_2_1"/>
  <child link="Washer_21"/>
</joint>

<joint name="Rigid_85" type="fixed">
  <origin xyz="-0.006 -0.0365 -0.034" rpy="0 0 0"/>
  <parent link="foot_connect_L1"/>
  <child link="Foot_L1"/>
</joint>

<joint name="Rigid_86" type="fixed">
  <origin xyz="-0.006 -0.0115 -0.034" rpy="0 0 0"/>
  <parent link="foot_connect_R1"/>
  <child link="Foot_R1"/>
</joint>

</robot>
